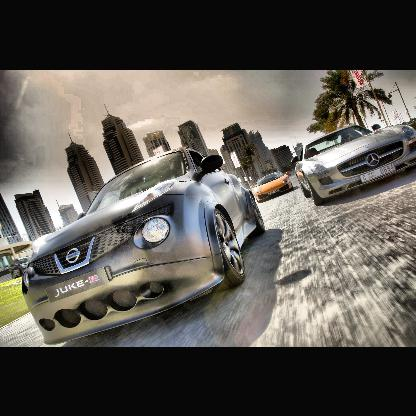Nissan Juke Hatchback 2012: (22, 148, 268, 344)
